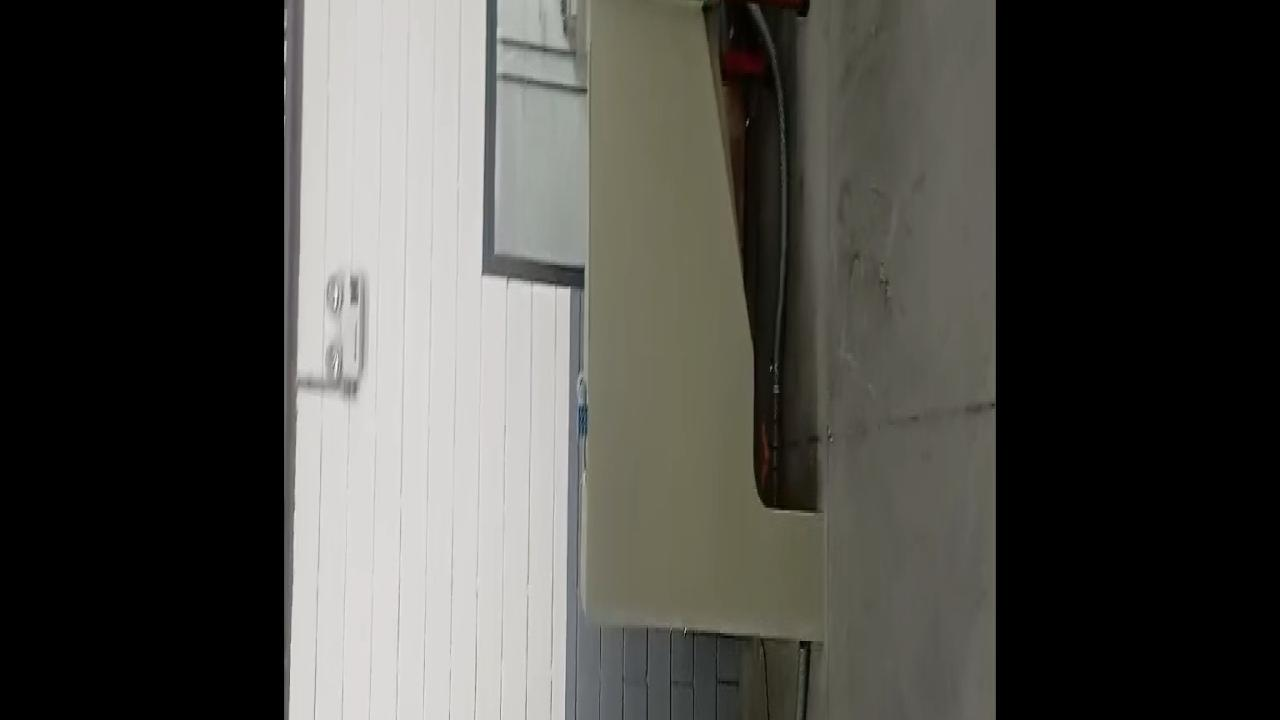Cube: (578, 403, 588, 439)
